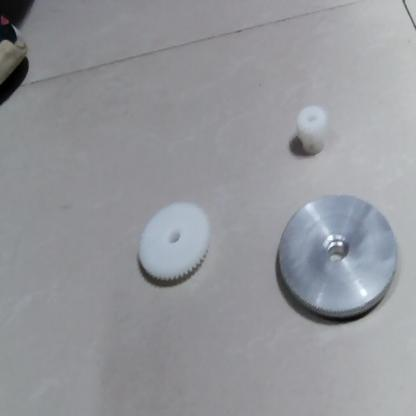FOD: (268, 185, 409, 325), (132, 198, 217, 290), (285, 102, 334, 163)
